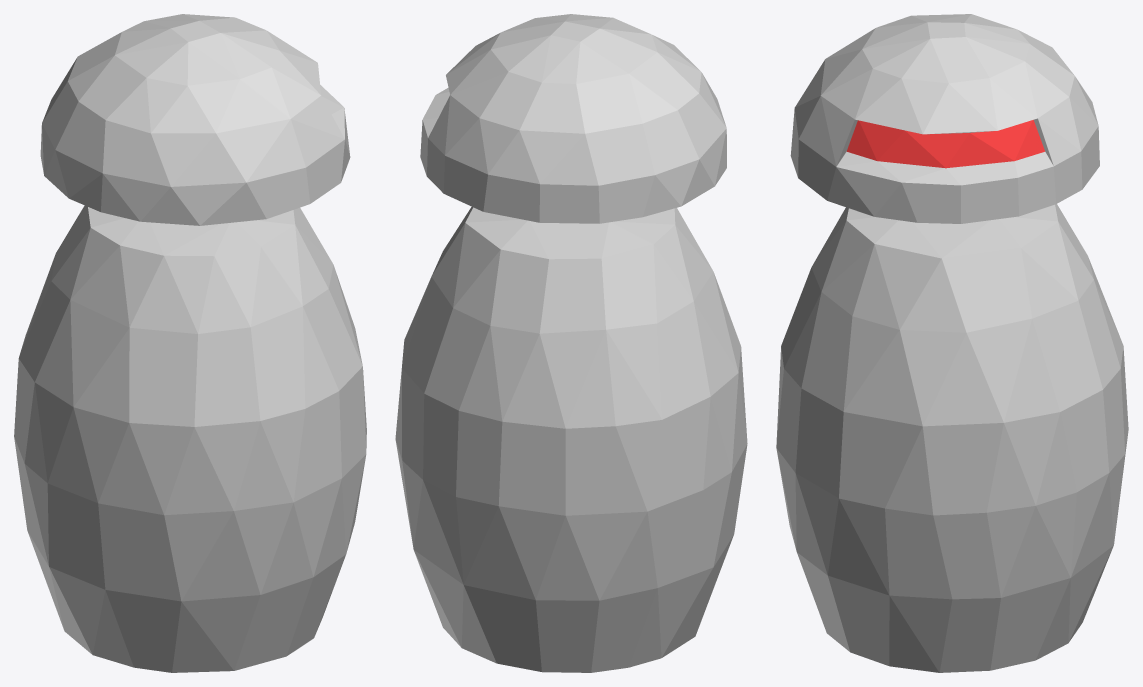
The model's file is Enemy1 Model.fbx.
3 views of the same model, side by side, from view 1: azimuth 30°, elevation 25°; view 2: azimuth 150°, elevation 25°; view 3: azimuth 270°, elevation 25° (orthographic).
Visible parts, largest first — view 1: Cylinder; view 2: Cylinder; view 3: Cylinder.
Part boxes in pixels (x1,y1,x2,y2): Cylinder: (14,14,366,672); Cylinder: (395,14,747,672); Cylinder: (776,14,1128,672).
Size of the model in its own units: 80.66 by 152 by 80.77.
